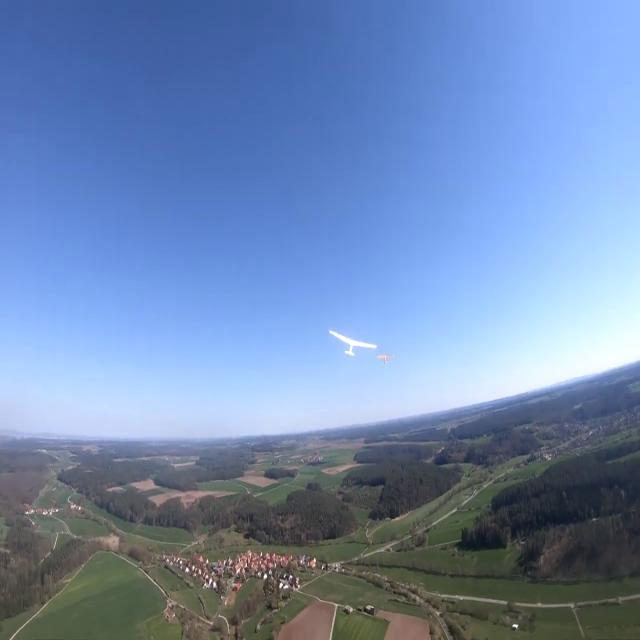iha: (328, 327, 377, 360), (376, 351, 396, 366)
